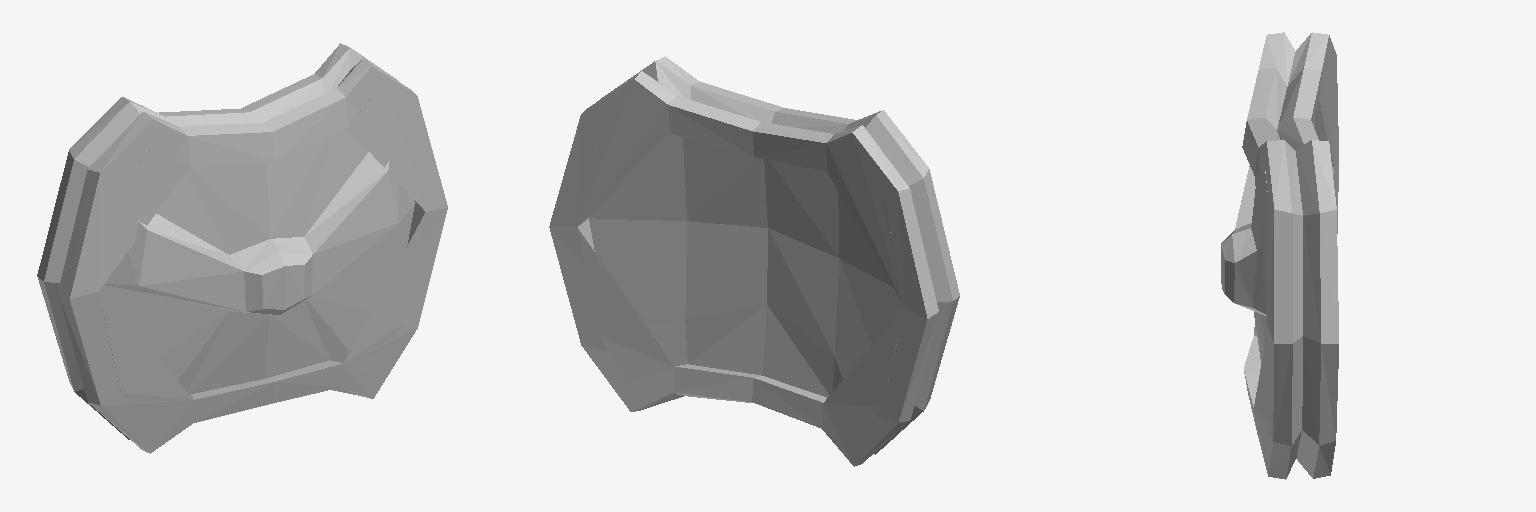
File: Wide.obj
The picture shows the model from 3 angles: view 1: azimuth 30°, elevation 25°; view 2: azimuth 150°, elevation 25°; view 3: azimuth 270°, elevation 25°; orthographic projection.
Visible parts, largest first — view 1: Wide_Circle.001; view 2: Wide_Circle.001; view 3: Wide_Circle.001.
Part boxes in pixels (left/top/right/bottom): Wide_Circle.001: left=37, top=43, right=447, bottom=453; Wide_Circle.001: left=549, top=56, right=959, bottom=466; Wide_Circle.001: left=1221, top=32, right=1338, bottom=479.
Size of the model in its own units: 0.6401 by 0.5419 by 0.1714.